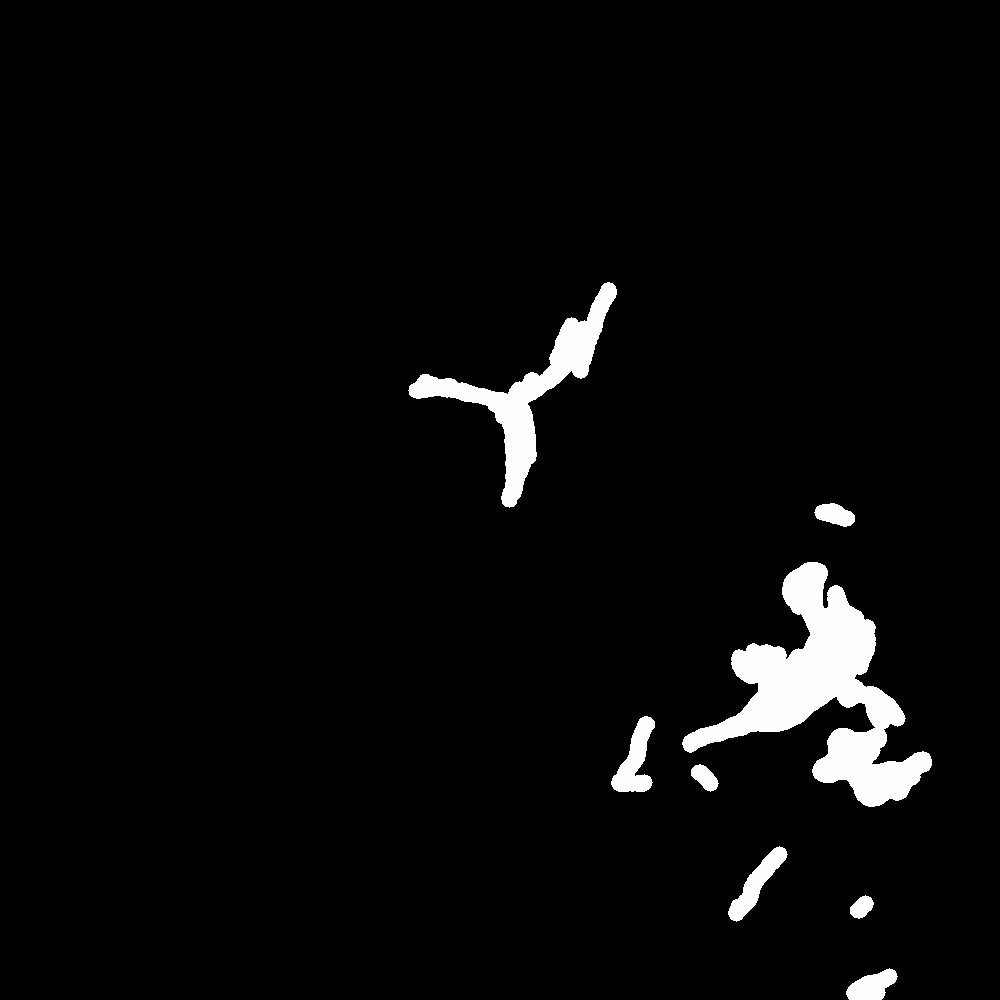illegal: (738, 568, 905, 730), (507, 289, 616, 421), (817, 735, 925, 803), (601, 758, 717, 793), (497, 425, 534, 522), (813, 498, 865, 563), (797, 893, 869, 932), (412, 377, 483, 401), (841, 970, 892, 1000), (426, 201, 468, 226)
